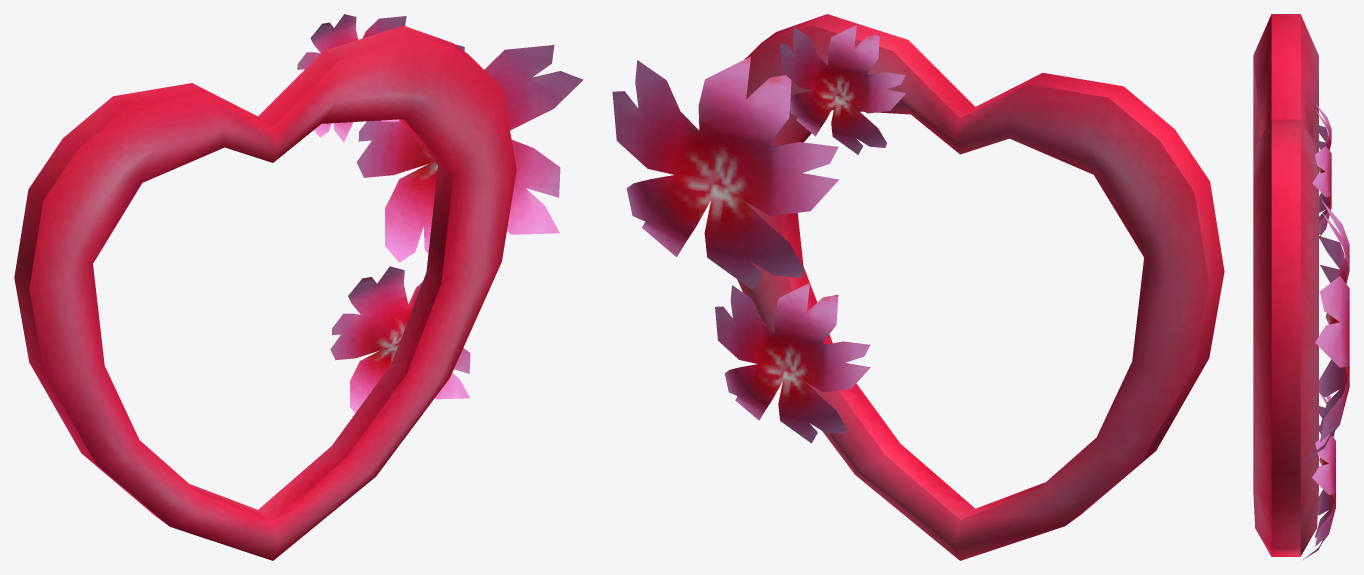
The model's file is furni_0200200.FBX.
3 views of the same model, side by side, from view 1: azimuth 30°, elevation 25°; view 2: azimuth 150°, elevation 25°; view 3: azimuth 270°, elevation 25° (orthographic). The views are drawn at different scales.
Visible parts, largest first — view 1: furni_0200200; view 2: furni_0200200; view 3: furni_0200200.
Boxes of the visible parts, bbox=[...] form: furni_0200200: bbox=[14, 14, 583, 560]; furni_0200200: bbox=[612, 14, 1224, 560]; furni_0200200: bbox=[1253, 14, 1349, 560].
Bounding box in the file's own units: 80.42 × 67.65 × 12.04.
Materials: 1 (1 with a texture image).
